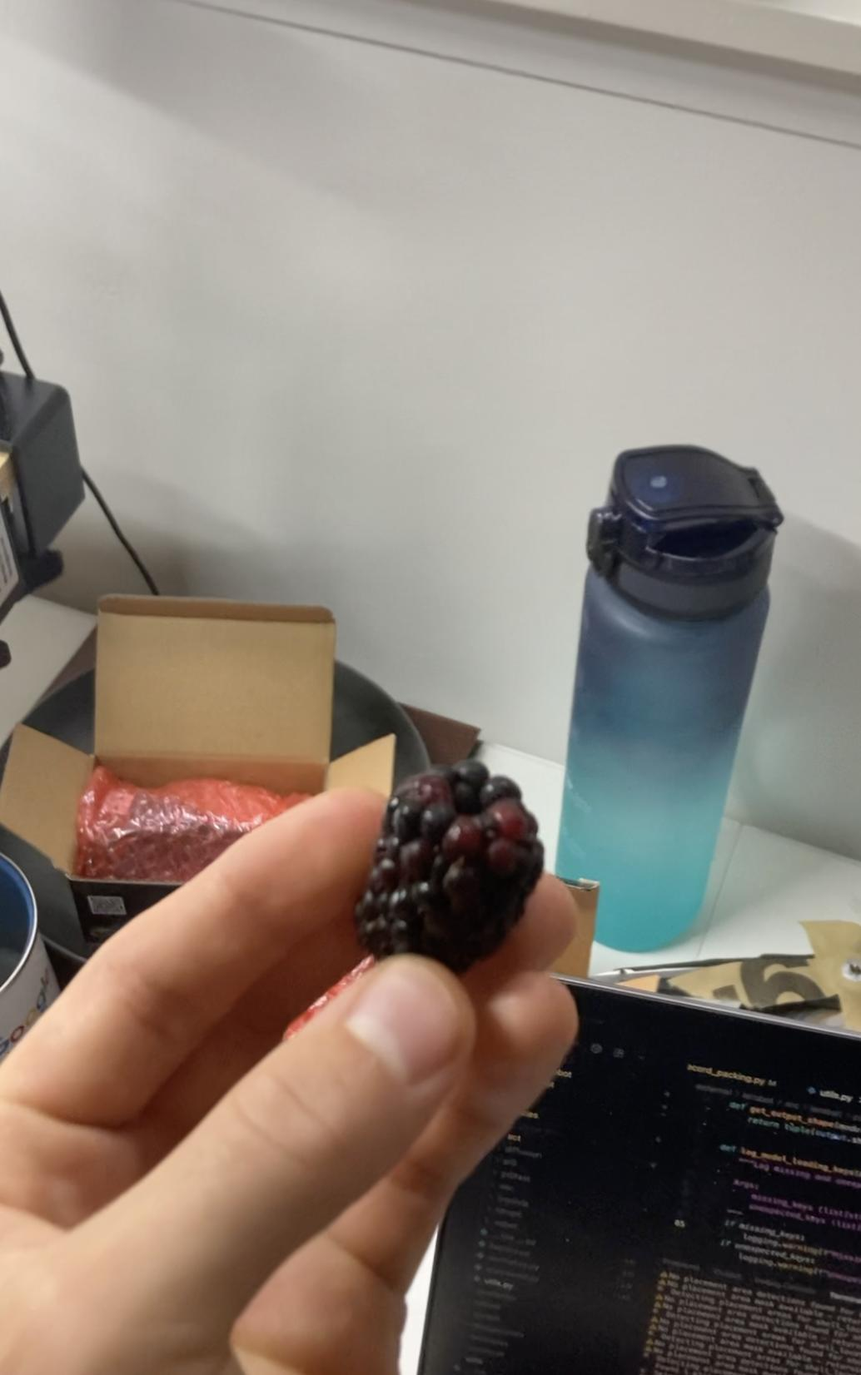berry: (355, 758, 544, 975)
red drouplet: (440, 816, 488, 866), (490, 799, 535, 845), (487, 836, 519, 876)
